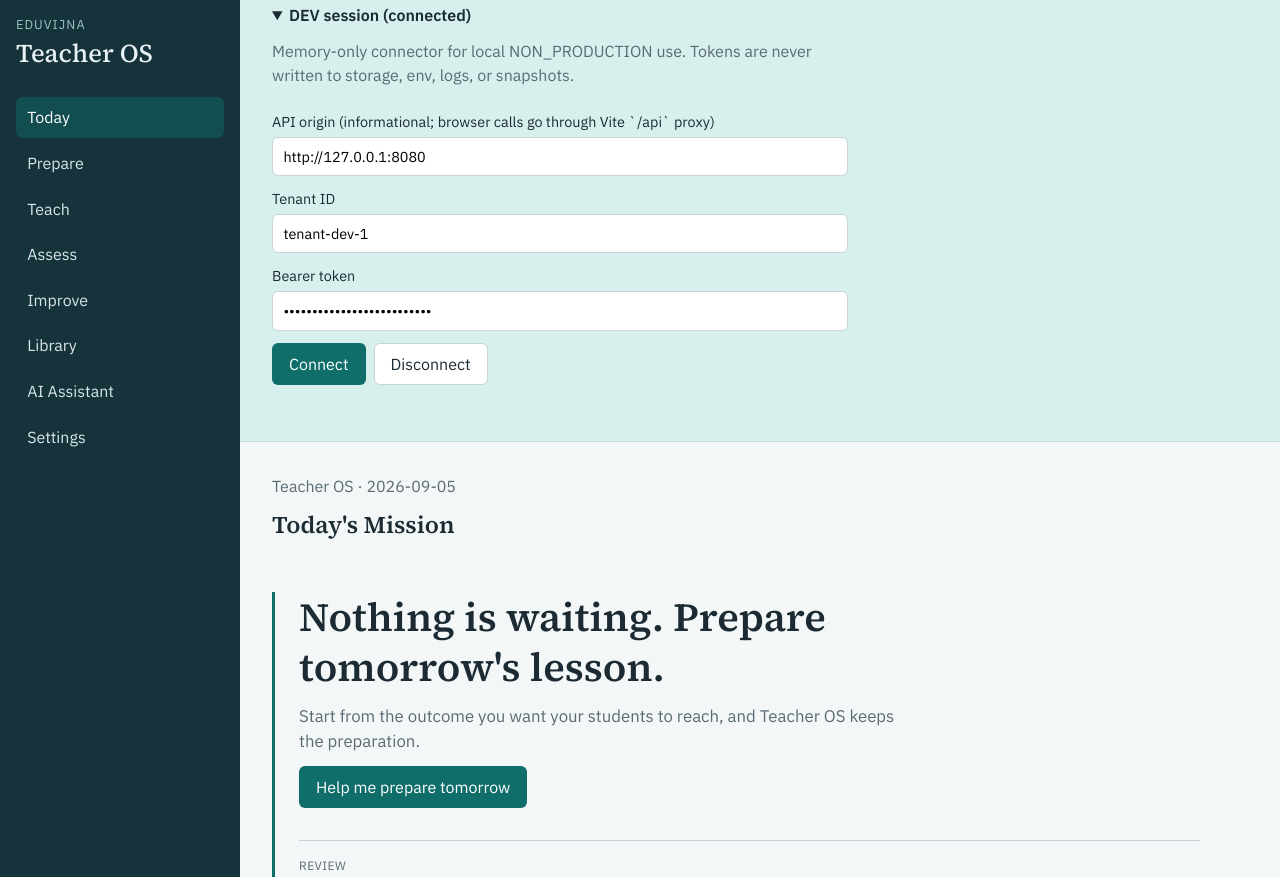
Scenario: A. Shell nav + Mission-first landing › navigates to the real Teach workspace instead of a placeholder
Click the link "Teach": (48, 209) x1=27 y1=199 x2=70 y2=219
(page scrolled)
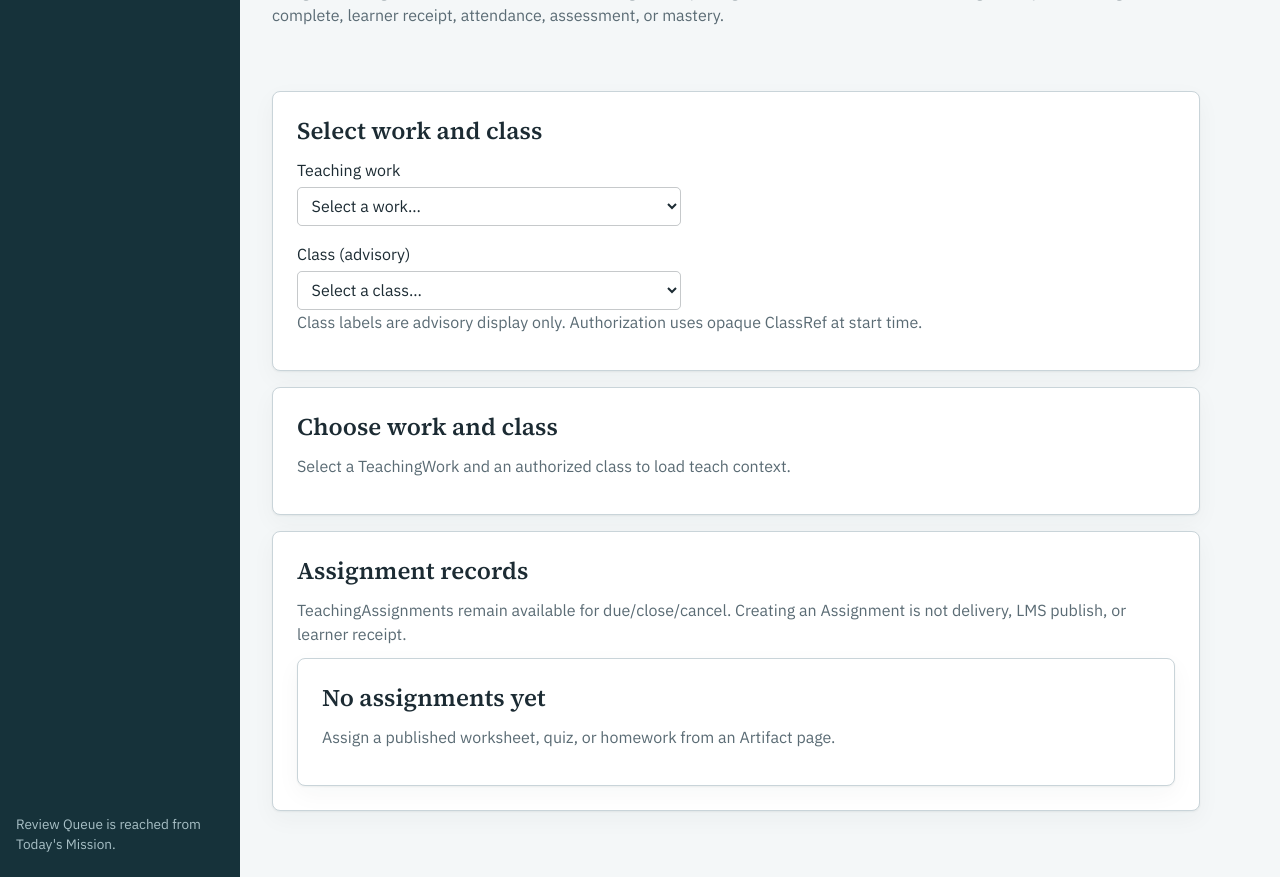
Now the heading "No assignments yet" is shown, box x1=322 y1=680 x2=546 y2=714
